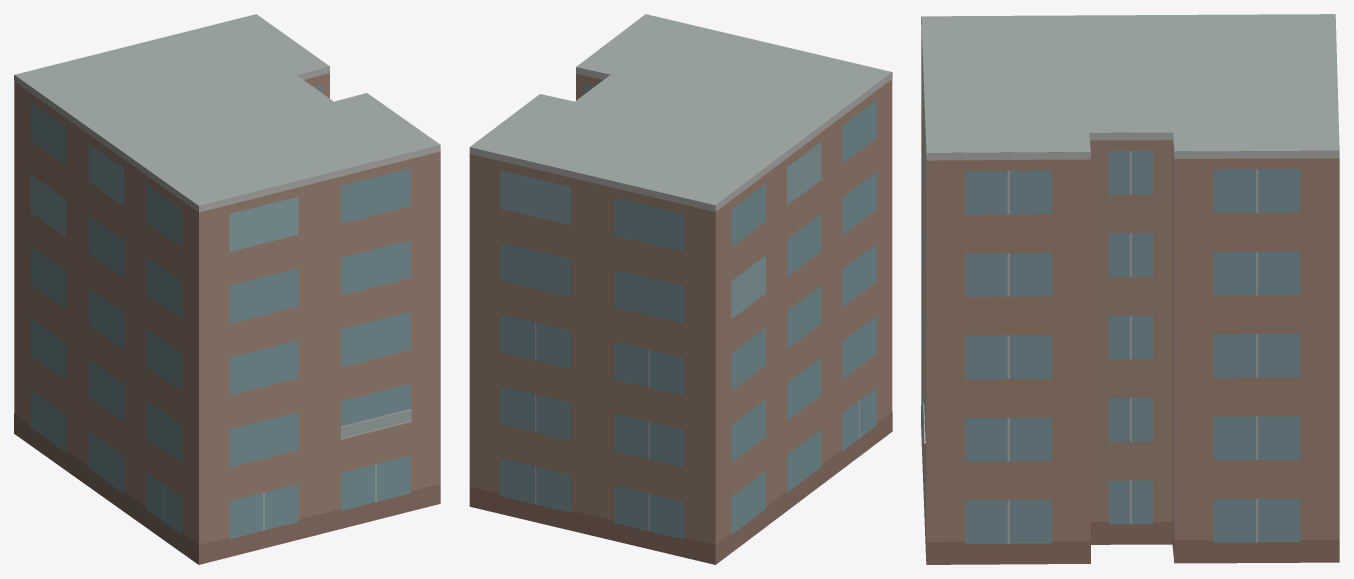
Rendered from survey-upis-32840881.glb.
3 views of the same model, side by side, from view 1: azimuth 30°, elevation 25°; view 2: azimuth 150°, elevation 25°; view 3: azimuth 270°, elevation 25° (orthographic). The views are drawn at different scales.
Parts seen in each view (by area): view 1: survey-upis-32840881.tmp; view 2: survey-upis-32840881.tmp; view 3: survey-upis-32840881.tmp.
Part boxes in pixels (bbox=[...]): survey-upis-32840881.tmp: bbox=[14, 14, 440, 564]; survey-upis-32840881.tmp: bbox=[469, 14, 892, 564]; survey-upis-32840881.tmp: bbox=[921, 14, 1339, 564].
Bounding box in the file's own units: 9.56 × 13.2 × 12.16.
